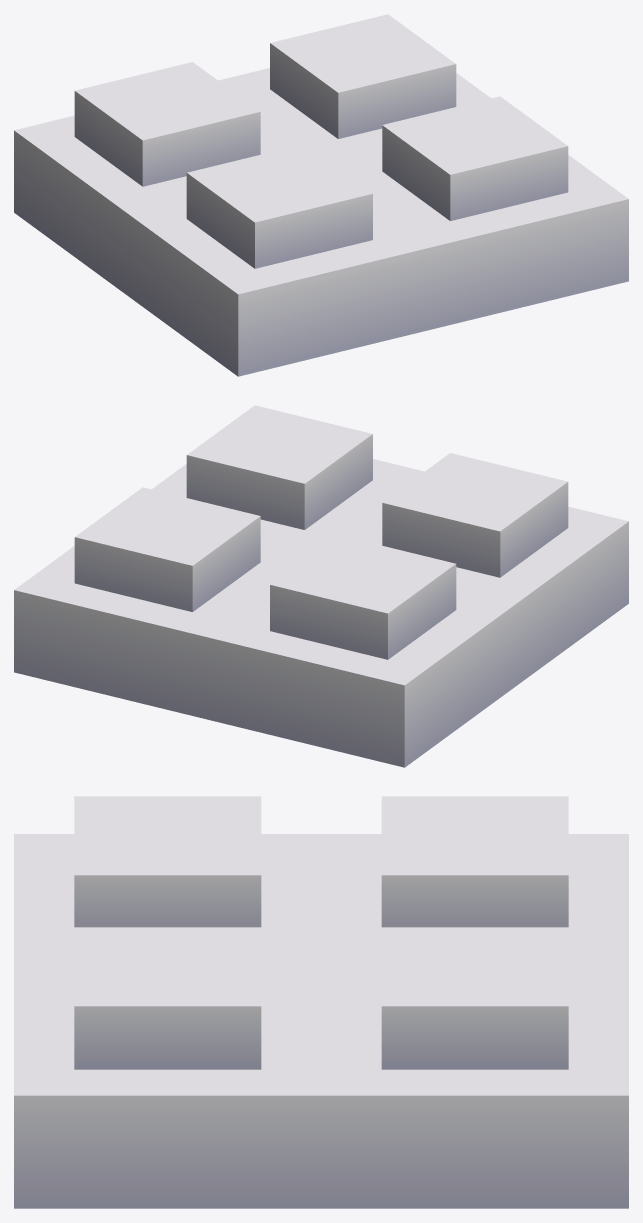
The model's file is kenney-brick-square-lq-plate-2-x-2.glb.
3 renders of one model, top to bottom at view 1: azimuth 30°, elevation 25°; view 2: azimuth 150°, elevation 25°; view 3: azimuth 270°, elevation 25°, orthographic. The views are drawn at different scales.
Parts seen in each view (by area): view 1: square-lq-plate-2x2; view 2: square-lq-plate-2x2; view 3: square-lq-plate-2x2.
Part boxes in pixels (x1,y1,x2,y2): square-lq-plate-2x2: [14, 14, 628, 376]; square-lq-plate-2x2: [14, 405, 628, 767]; square-lq-plate-2x2: [14, 796, 628, 1208].
Size of the model in its own units: 0.159 by 0.05 by 0.158.
1 material, 1 textured.
